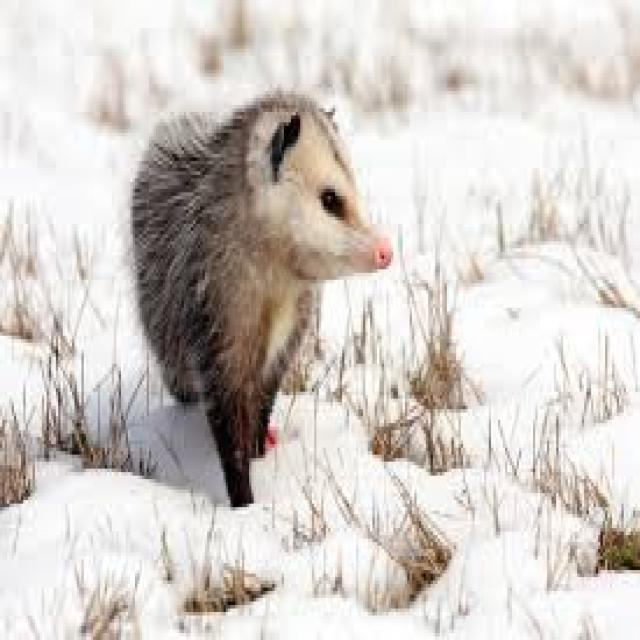Possum: (125, 78, 392, 505)
